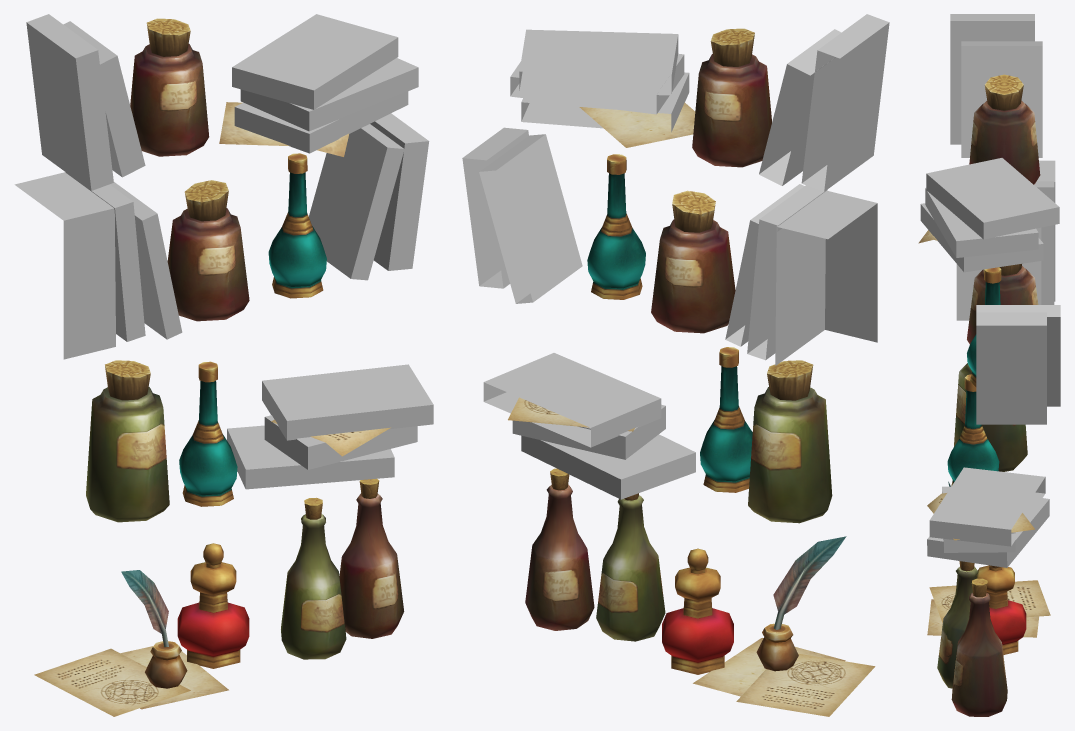
File: Cupboard_Preset_03.FBX
3 renders of one model, left to right at view 1: azimuth 30°, elevation 25°; view 2: azimuth 150°, elevation 25°; view 3: azimuth 270°, elevation 25°, orthographic. The views are drawn at different scales.
Parts seen in each view (by area): view 1: Cupboard_Preset_03; view 2: Cupboard_Preset_03; view 3: Cupboard_Preset_03.
Part boxes in pixels (x1,y1,x2,y2): Cupboard_Preset_03: (14,14,433,716); Cupboard_Preset_03: (462,14,889,716); Cupboard_Preset_03: (918,14,1060,716).
Bounding box in the file's own units: 129 × 50.53 × 221.
